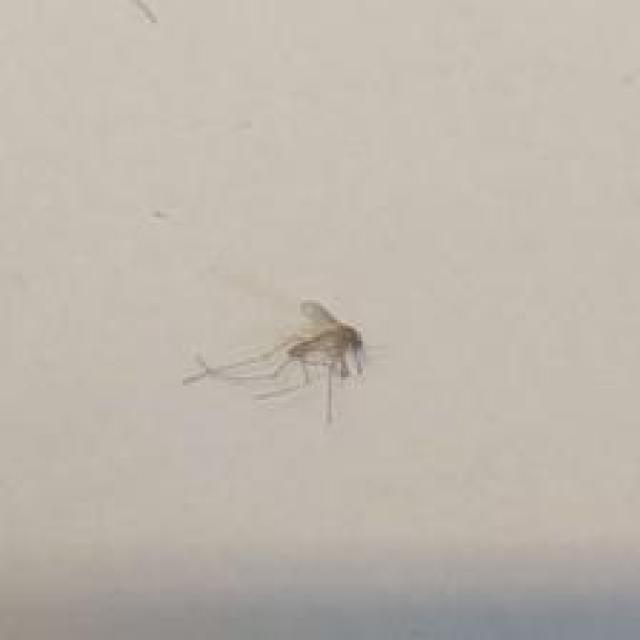Culex: (181, 297, 370, 426)
